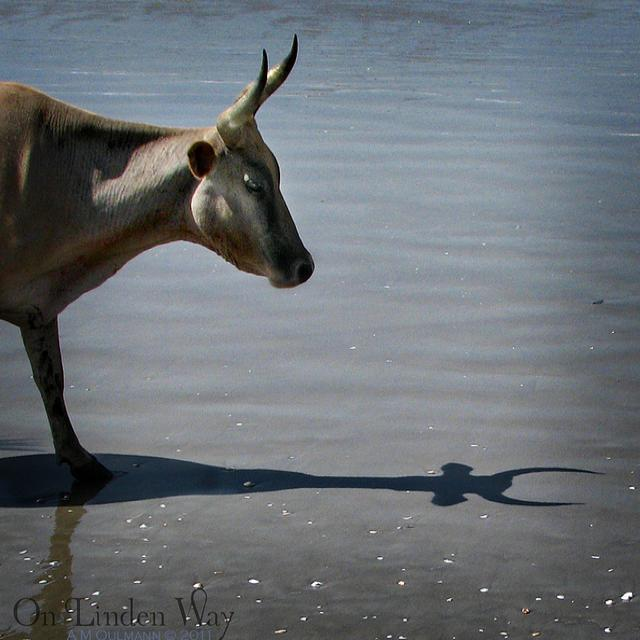cow: (0, 32, 312, 480)
